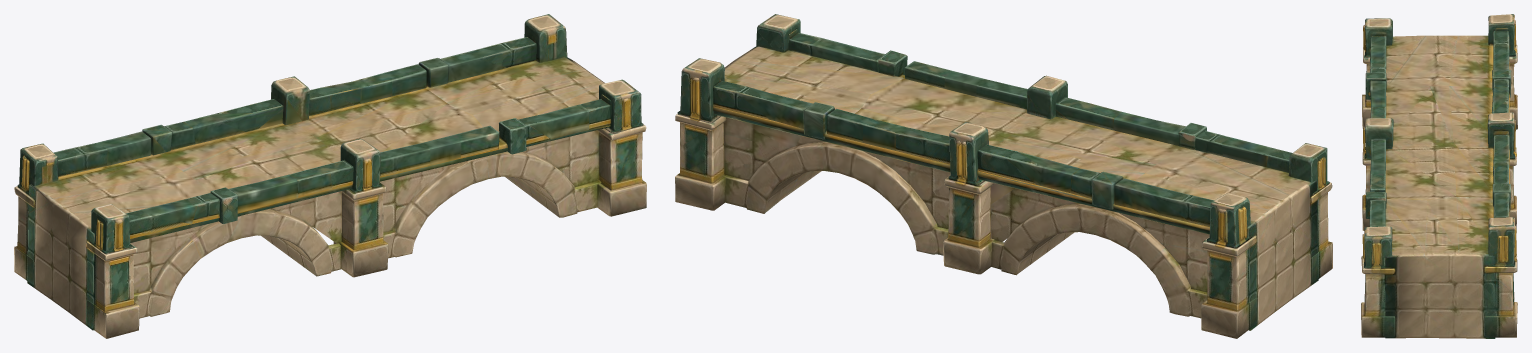
Rendered from kit-cc-causeway-span.glb.
3 renders of one model, left to right at view 1: azimuth 30°, elevation 25°; view 2: azimuth 150°, elevation 25°; view 3: azimuth 270°, elevation 25°, orthographic. The views are drawn at different scales.
Parts seen in each view (by area): view 1: kit-cc-causeway-span; view 2: kit-cc-causeway-span; view 3: kit-cc-causeway-span.
Boxes of the visible parts, x1,y1,x2,y2 form: kit-cc-causeway-span: (14, 14, 646, 338); kit-cc-causeway-span: (675, 14, 1332, 338); kit-cc-causeway-span: (1361, 14, 1517, 338).
Bounding box in the file's own units: 17.08 × 4 × 5.11.
Materials: 1 (1 with a texture image).
